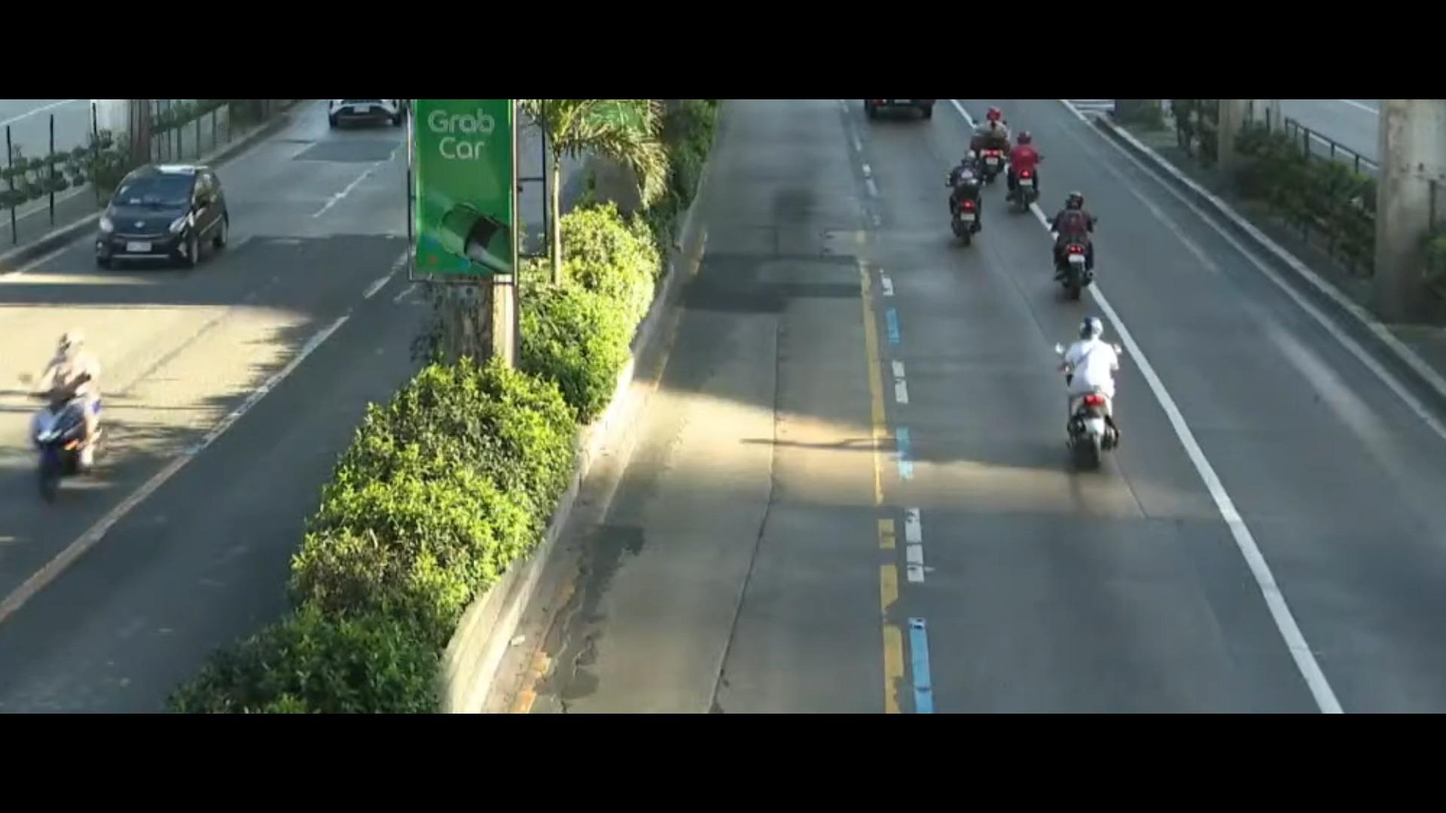Motorcycle: (1039, 311, 1147, 483), (0, 349, 132, 485), (1024, 183, 1107, 315), (933, 147, 993, 232), (958, 102, 1017, 186), (989, 128, 1047, 197)
Sedan: (52, 149, 241, 283)
